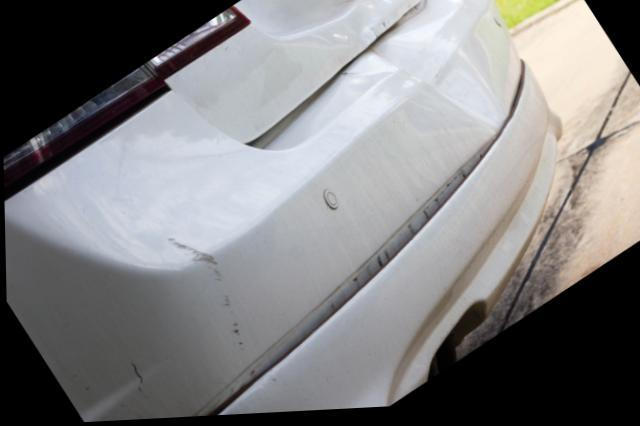dent: (346, 43, 499, 138)
scratch: (160, 234, 247, 360)
